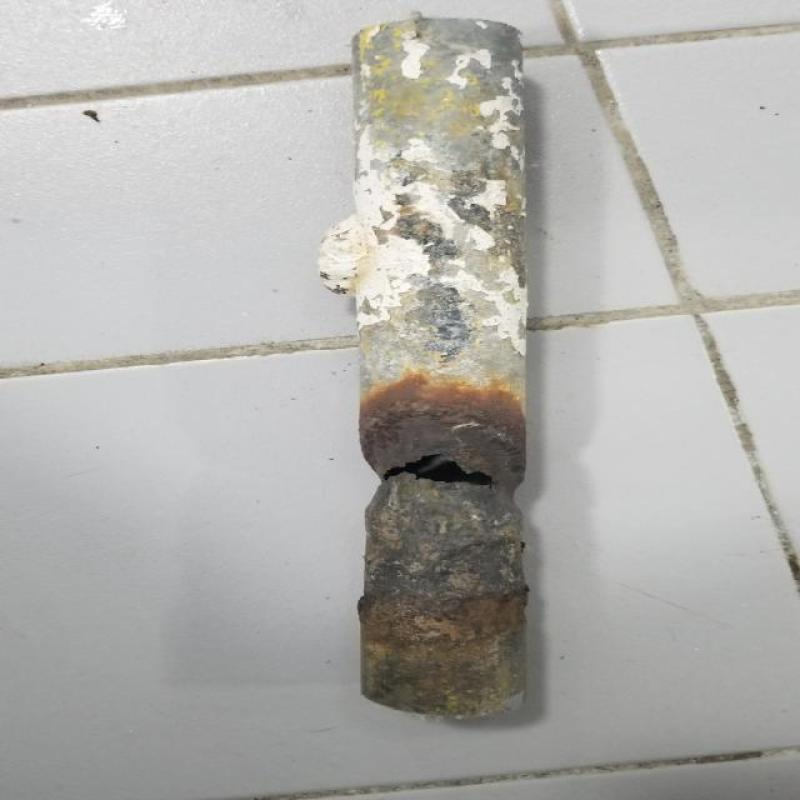Fracture: (360, 347, 528, 522)
